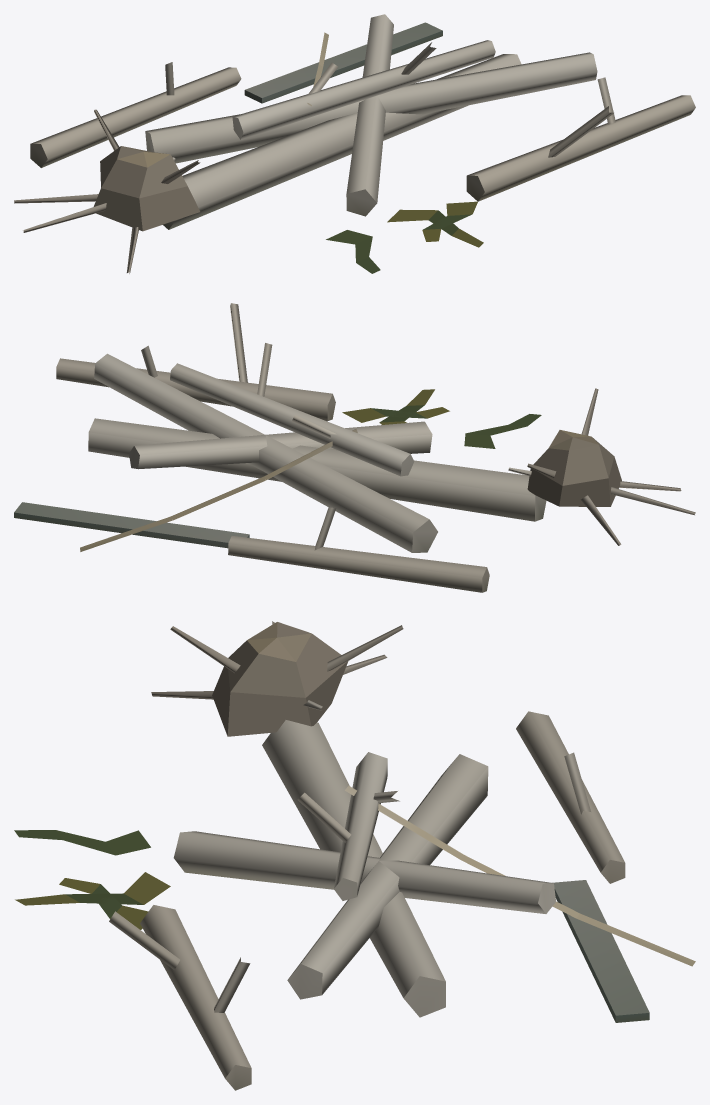
File: wreck_cove_driftwood.glb
3 views of the same model, one above another, from view 1: azimuth 30°, elevation 25°; view 2: azimuth 150°, elevation 25°; view 3: azimuth 270°, elevation 25° (orthographic). The views are drawn at different scales.
Parts seen in each view (by area): view 1: body; view 2: body; view 3: body.
Boxes of the visible parts, x1,y1,x2,y2 form: body: (14, 14, 695, 273); body: (14, 303, 695, 592); body: (14, 621, 695, 1090).
Bounding box in the file's own units: 7.52 × 1.28 × 5.1.
